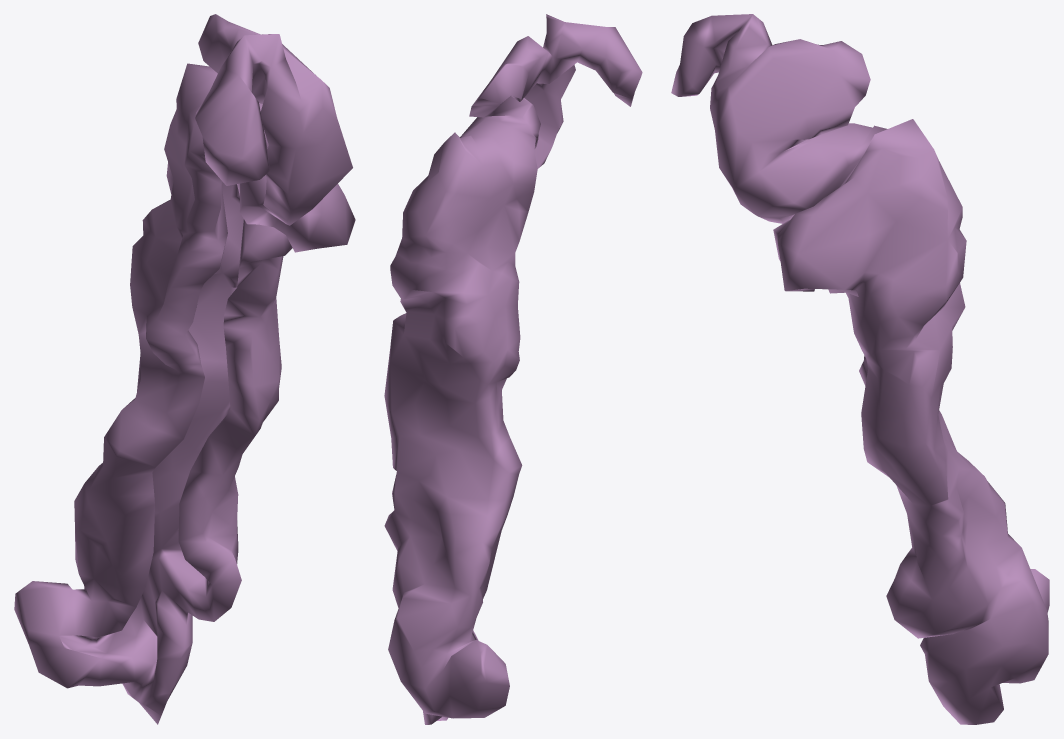
3 views of the same model, side by side, from view 1: azimuth 30°, elevation 25°; view 2: azimuth 150°, elevation 25°; view 3: azimuth 270°, elevation 25° (orthographic). The views are drawn at different scales.
Visible parts, largest first — view 1: 左侧颞下回; view 2: 左侧颞下回; view 3: 左侧颞下回.
Part boxes in pixels (x1,y1,x2,y2): 左侧颞下回: [14, 14, 355, 724]; 左侧颞下回: [384, 14, 642, 724]; 左侧颞下回: [671, 14, 1049, 724].
Bounding box in the file's own units: 0.0378 × 0.1321 × 0.0649.
